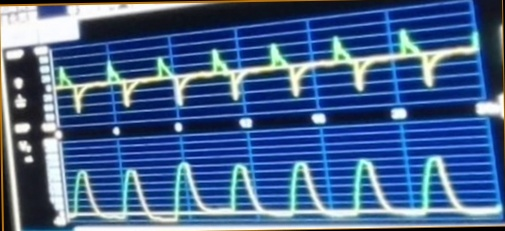Accumulation Flow: (57, 30, 466, 112)
Volume: (68, 153, 489, 224)
